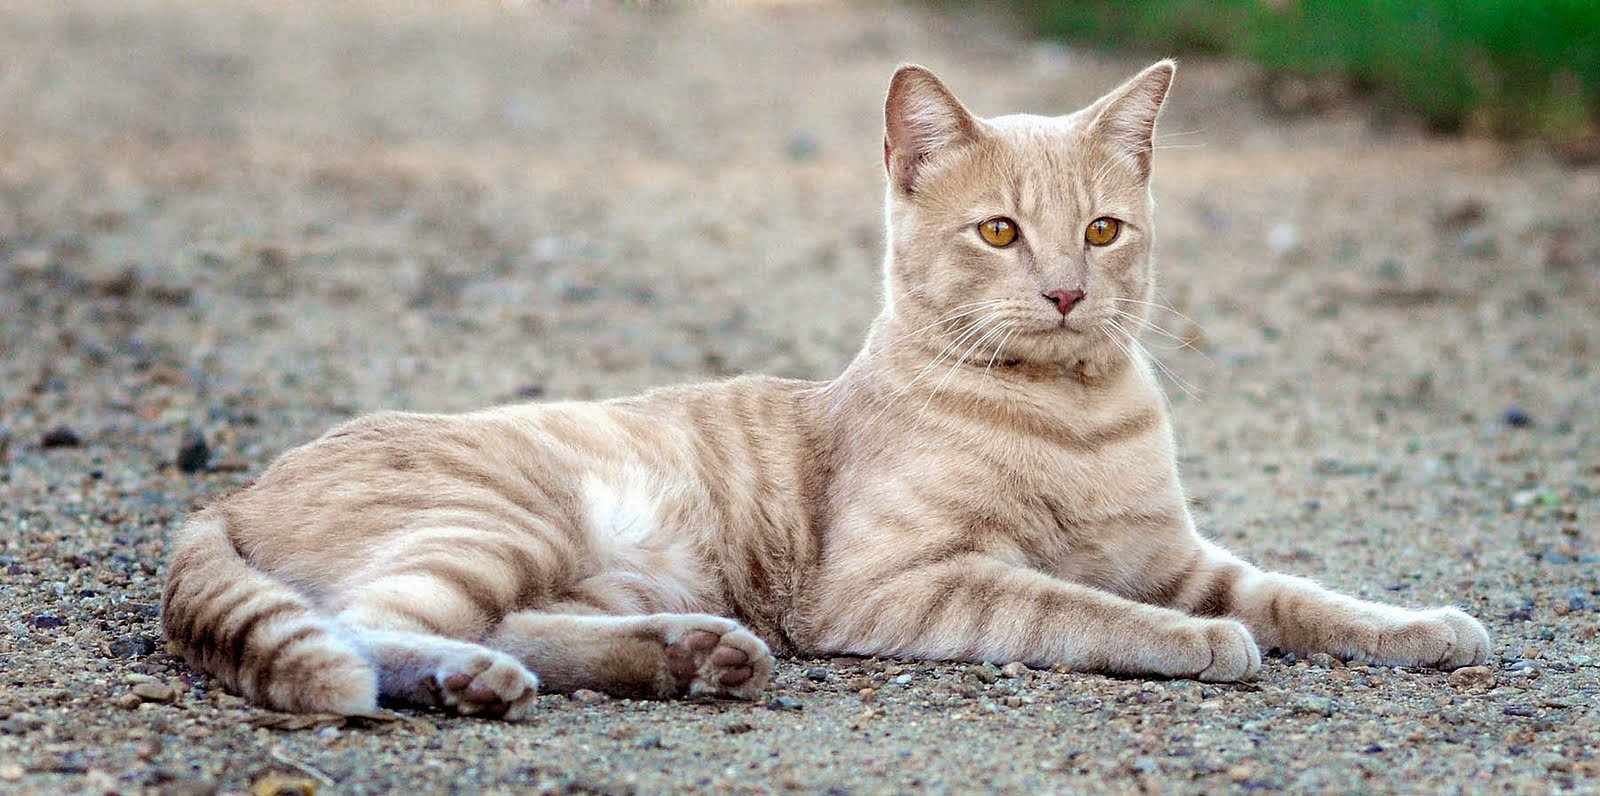cat: (144, 76, 1322, 714)
